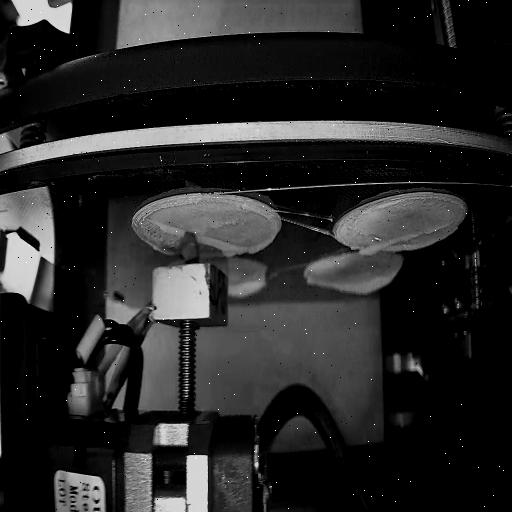over_extrusion: (361, 219, 451, 259), (307, 265, 403, 297), (228, 273, 270, 299), (197, 236, 244, 256), (152, 217, 184, 240)
